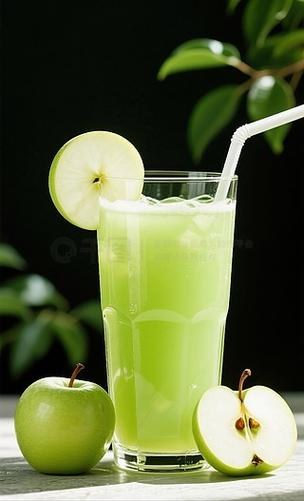unripe: (9, 367, 118, 477)
